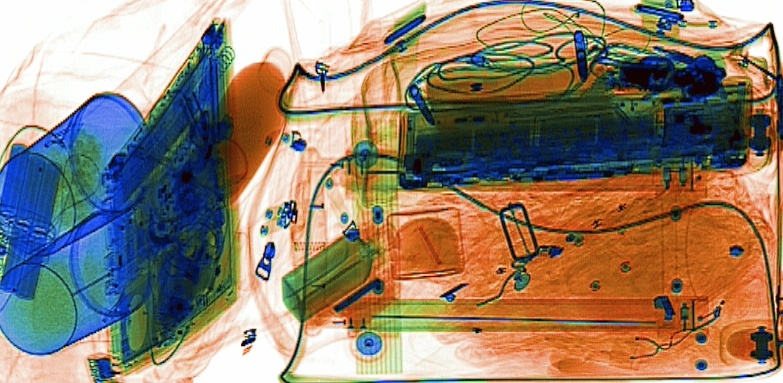powerbank: (1, 138, 65, 303)
